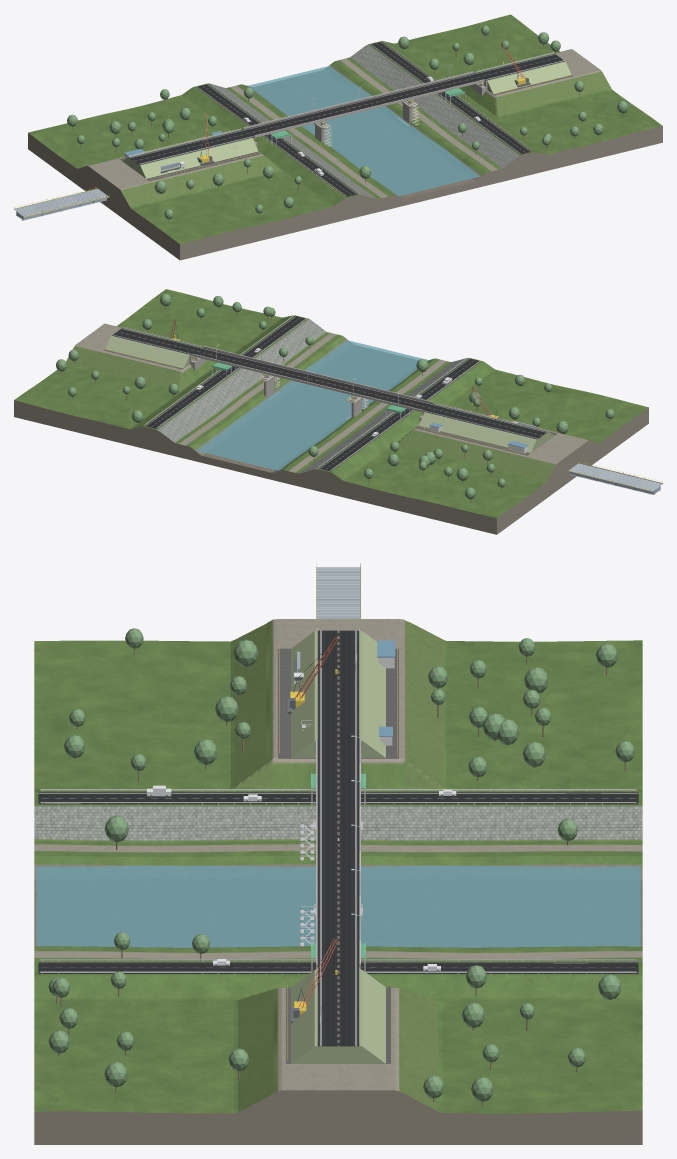
File: bridge_launching_viewer.glb
3 renders of one model, top to bottom at view 1: azimuth 30°, elevation 25°; view 2: azimuth 150°, elevation 25°; view 3: azimuth 270°, elevation 25°, orthographic. The views are drawn at different scales.
Parts seen in each view (by area): view 1: env_terrain, env_river_water, env_terrain_skirt, deck_asphalt, env_trees_crowns, env_levee_roads, deck_approach_emb, deck_barriers, env_guardrails, temp_yard_plates, deck_approach_guardrail; view 2: env_terrain, env_river_water, env_terrain_skirt, deck_asphalt, env_trees_crowns, deck_approach_emb, env_levee_roads, deck_barriers, env_guardrails, temp_yard_plates, deck_approach_guardrail; view 3: env_terrain, env_river_water, env_terrain_skirt, deck_asphalt, env_trees_crowns, env_levee_roads, deck_approach_emb, env_guardrails, temp_yard_plates, deck_barriers, girder_deckplate_11, girder_deckplate_12.
Boxes of the visible parts, x1,y1,x2,y2 form: env_terrain: (28, 14, 662, 244); env_river_water: (247, 66, 479, 196); env_terrain_skirt: (28, 126, 662, 260); deck_asphalt: (129, 53, 564, 164); env_trees_crowns: (67, 25, 628, 219); env_levee_roads: (196, 41, 531, 196); deck_approach_emb: (122, 53, 571, 178); deck_barriers: (243, 71, 484, 137); env_guardrails: (196, 41, 531, 196); temp_yard_plates: (119, 75, 572, 181); deck_approach_guardrail: (129, 52, 565, 164); env_terrain: (14, 289, 648, 518); env_river_water: (196, 340, 429, 470); env_terrain_skirt: (14, 400, 648, 534); deck_asphalt: (112, 328, 547, 439); env_trees_crowns: (56, 293, 614, 499); deck_approach_emb: (105, 327, 553, 453); env_levee_roads: (145, 316, 480, 471); deck_barriers: (192, 346, 433, 411); env_guardrails: (145, 315, 480, 470); temp_yard_plates: (104, 349, 557, 455); deck_approach_guardrail: (111, 326, 547, 438); env_terrain: (34, 619, 642, 1113); env_river_water: (36, 865, 640, 947); env_terrain_skirt: (34, 1090, 642, 1144); deck_asphalt: (317, 630, 359, 1046); env_trees_crowns: (48, 628, 634, 1101); env_levee_roads: (38, 792, 638, 973); deck_approach_emb: (291, 631, 385, 1063); env_guardrails: (40, 789, 636, 974); temp_yard_plates: (278, 648, 398, 1063); deck_barriers: (316, 739, 360, 967); girder_deckplate_11: (316, 585, 360, 604); girder_deckplate_12: (316, 567, 360, 585).
Bounding box in the file's own units: 336 × 38.14 × 156.
163 materials, 25 textured.
